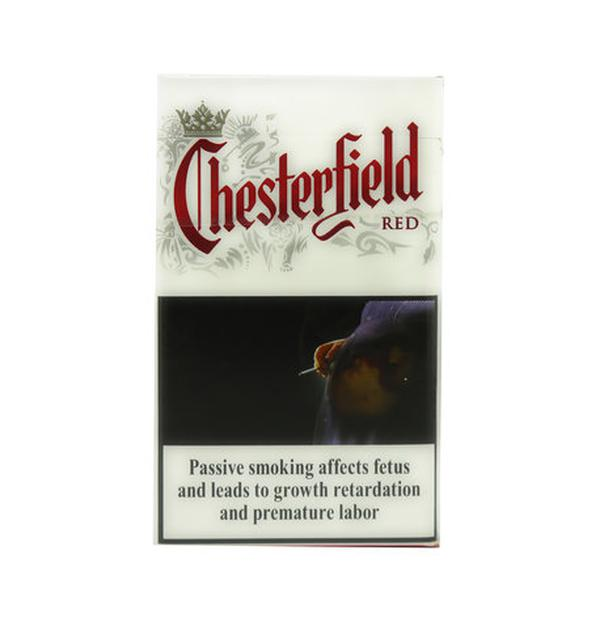chesterfield_red: (157, 77, 433, 546)
